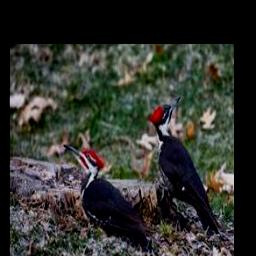Woodpecker: (148, 97, 225, 239), (64, 144, 157, 242)
